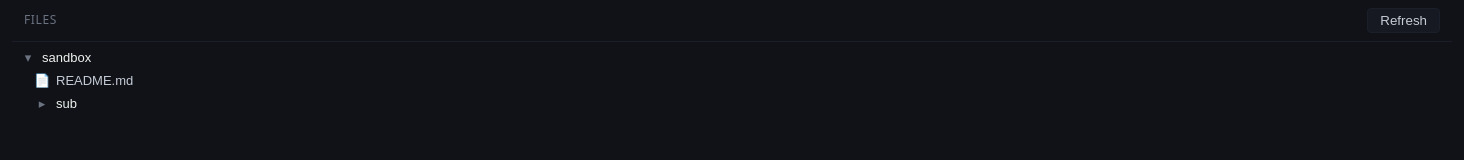
Test: connectors file tree › expands a folder on click to reveal its children
Click the text "sub": {"x": 66, "y": 104} 56,96 -> 77,111
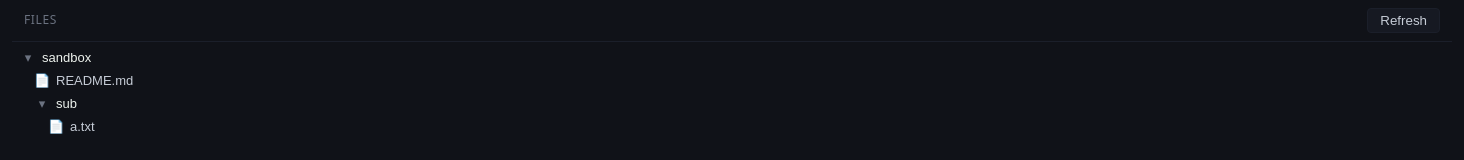
Check: the text "a.txt" is shown, box 70,119 -> 95,134
